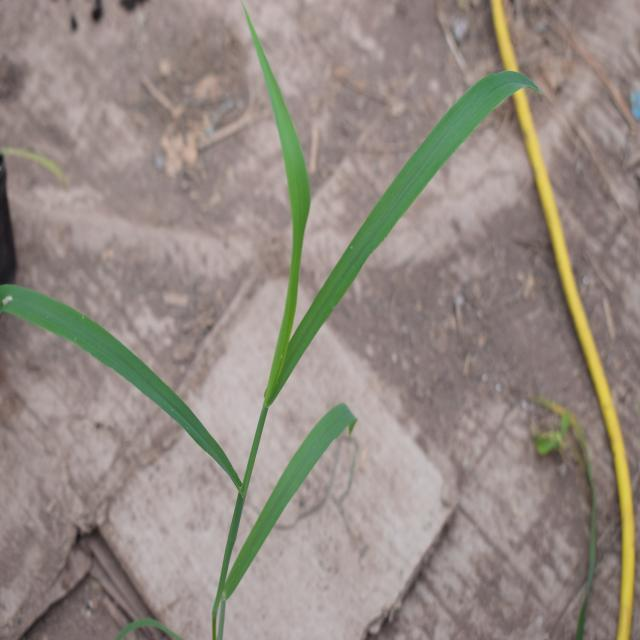crabgrass: (25, 46, 502, 514)
